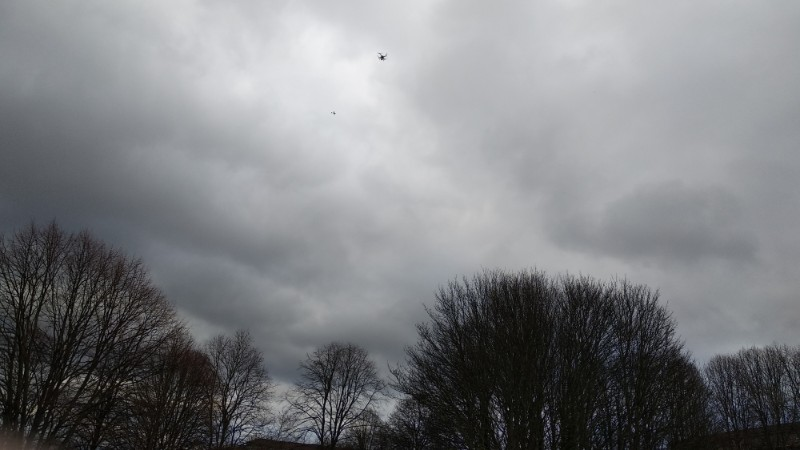drone: (377, 52, 388, 61)
